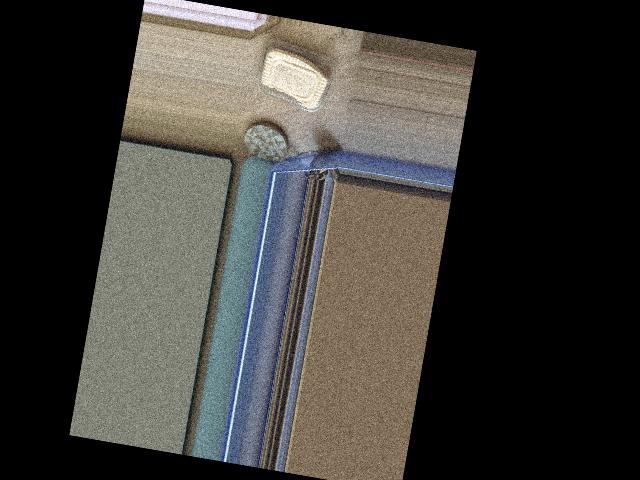cheese: (242, 18, 335, 118)
